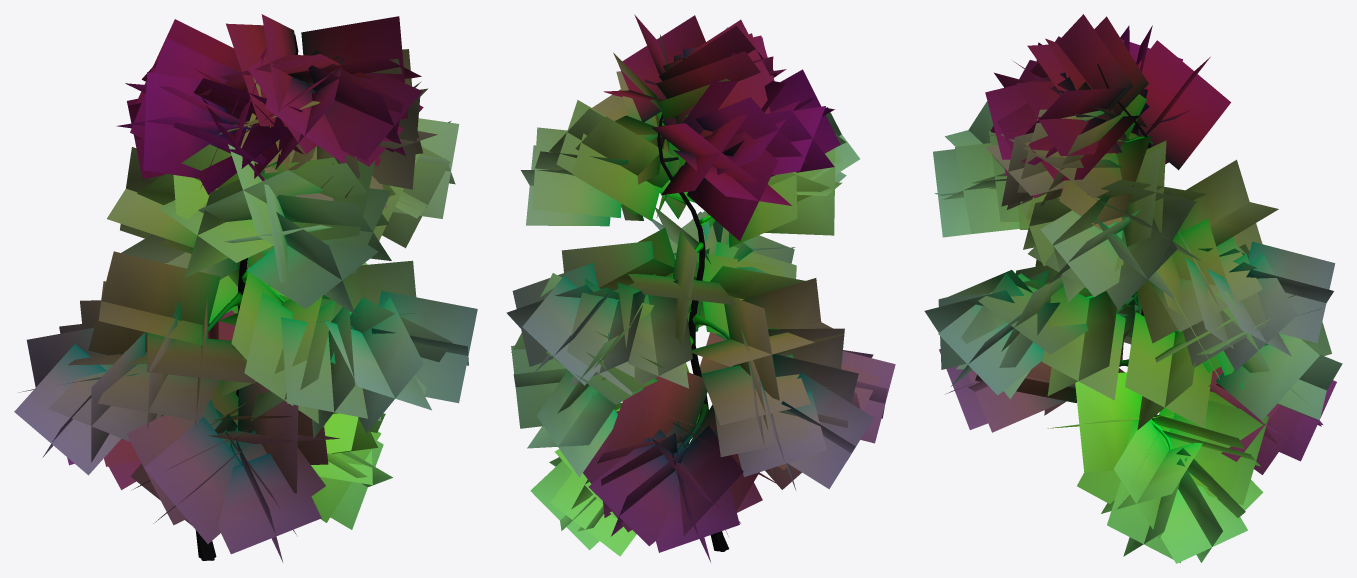
Rendered from URP_P14_Tree_5_LOD_0.fbx.
3 renders of one model, left to right at view 1: azimuth 30°, elevation 25°; view 2: azimuth 150°, elevation 25°; view 3: azimuth 270°, elevation 25°, orthographic. The views are drawn at different scales.
Parts seen in each view (by area): view 1: Tree_5_LOD_0; view 2: Tree_5_LOD_0; view 3: Tree_5_LOD_0.
Part boxes in pixels (<box>): Tree_5_LOD_0: <box>14,14,477,562</box>; Tree_5_LOD_0: <box>506,14,895,562</box>; Tree_5_LOD_0: <box>924,14,1342,563</box>.
Bounding box in the file's own units: 412 × 561 × 420.
